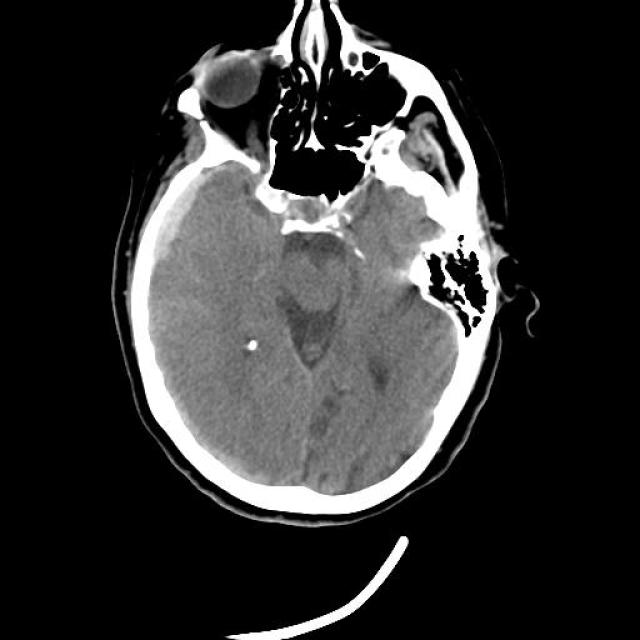Subdural: (136, 145, 235, 276)
